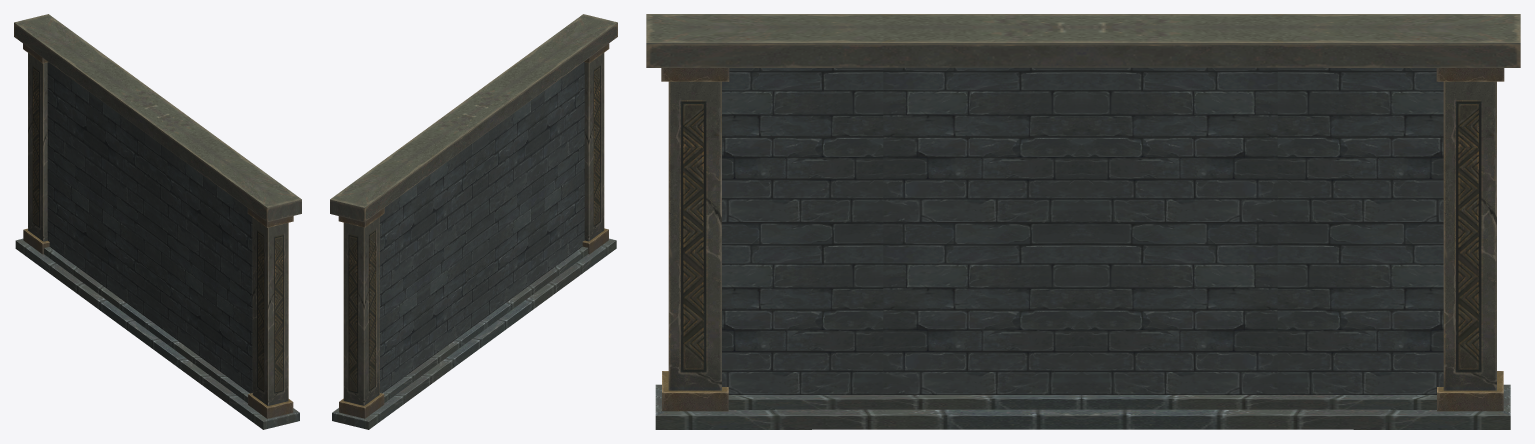
File: jg_qiang.fbx
3 renders of one model, left to right at view 1: azimuth 30°, elevation 25°; view 2: azimuth 150°, elevation 25°; view 3: azimuth 270°, elevation 25°, orthographic. The views are drawn at different scales.
Visible parts, largest first — view 1: polySurface31; view 2: polySurface31; view 3: polySurface31.
Boxes of the visible parts, x1,y1,x2,y2 form: polySurface31: [14, 14, 301, 429]; polySurface31: [330, 14, 617, 429]; polySurface31: [646, 14, 1520, 429].
Bounding box in the file's own units: 122 × 707 × 1450.
